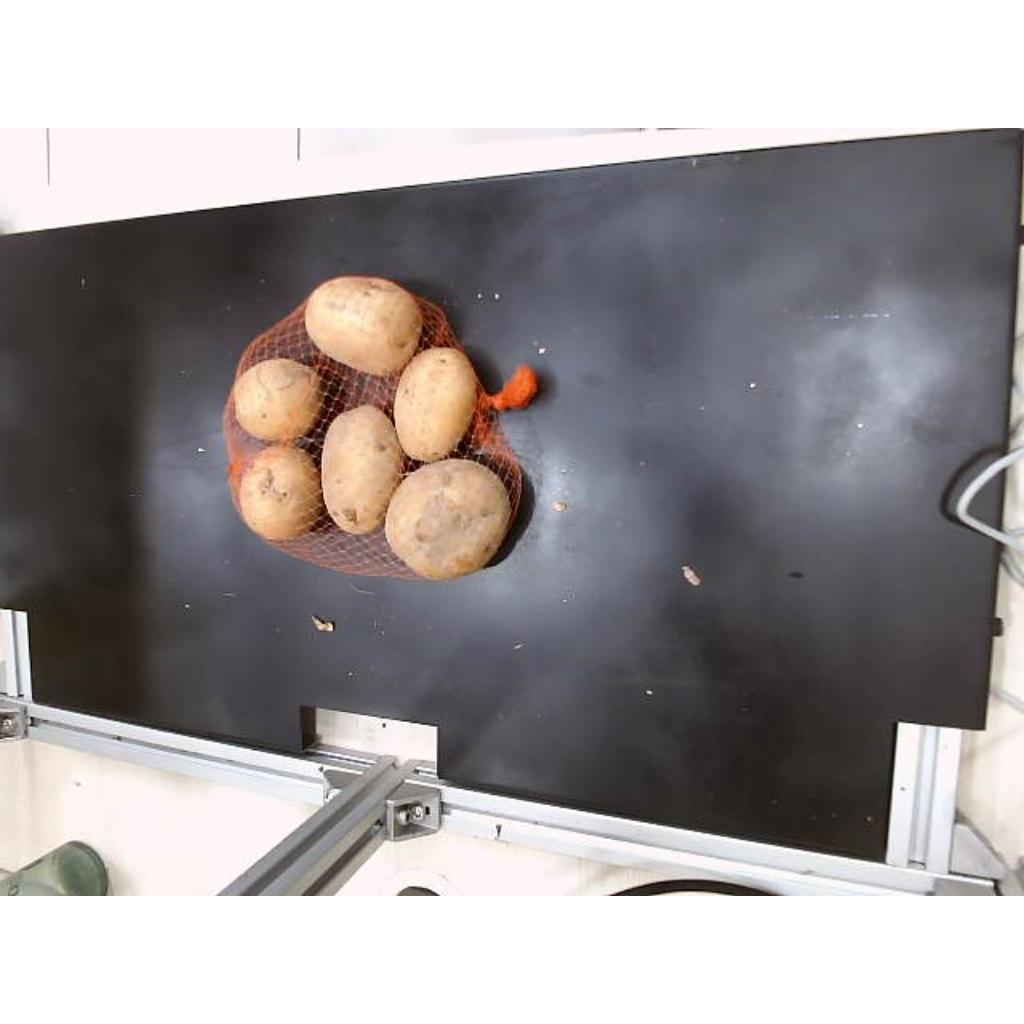potato: (386, 458, 510, 579), (306, 276, 422, 375), (322, 406, 404, 533), (394, 348, 478, 461), (238, 444, 322, 540), (234, 358, 320, 439)
